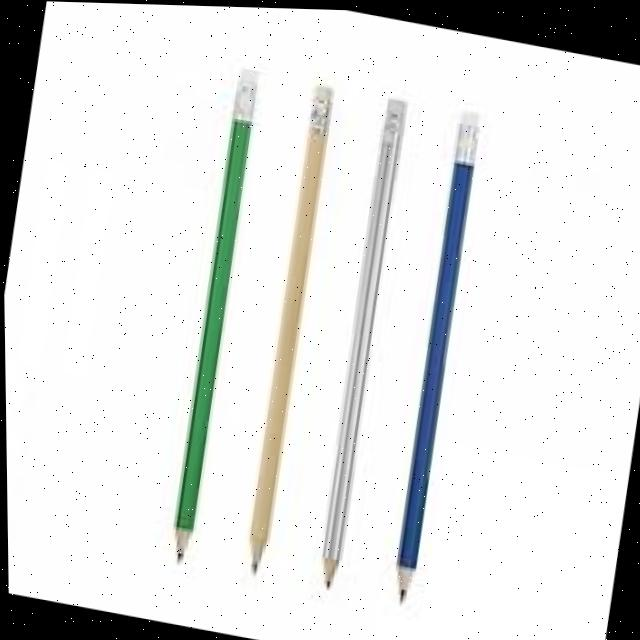pencil: (239, 80, 338, 588), (168, 63, 264, 579), (315, 93, 412, 602), (388, 104, 483, 619)
